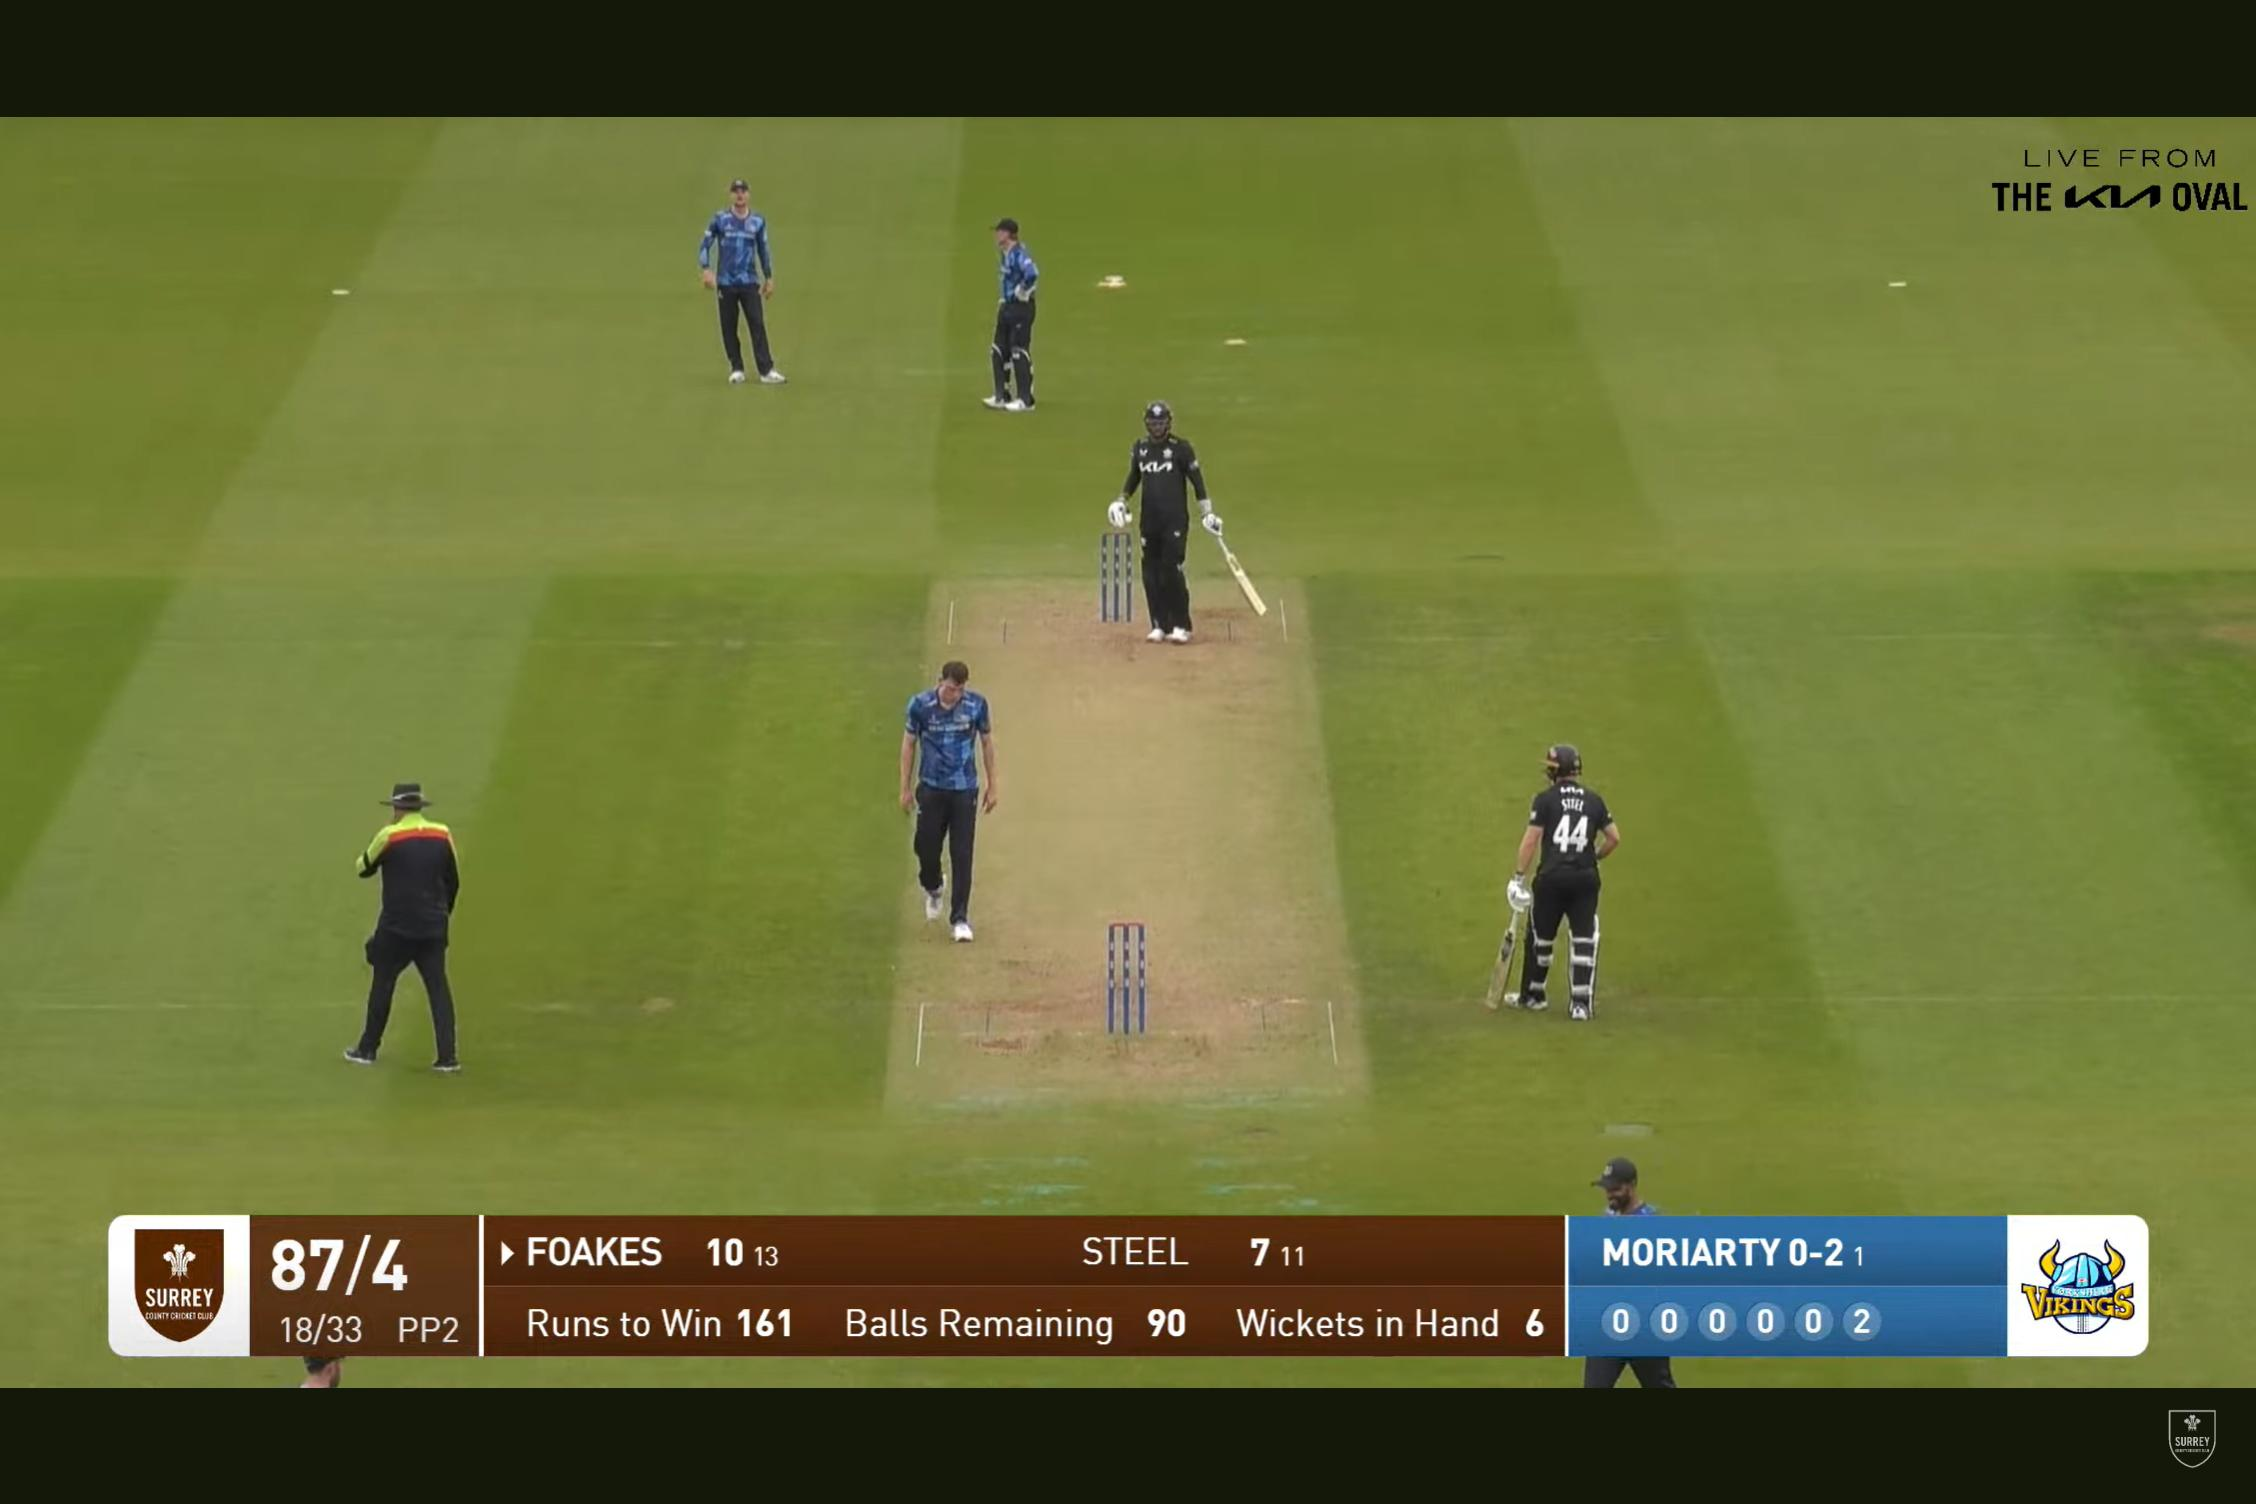batsman: (1098, 398, 1261, 661)
bowler walking back: (881, 646, 1019, 947)
non striker: (1457, 713, 1652, 1046)
stumps: (1088, 881, 1183, 1066)
umpire: (311, 754, 507, 1086)
